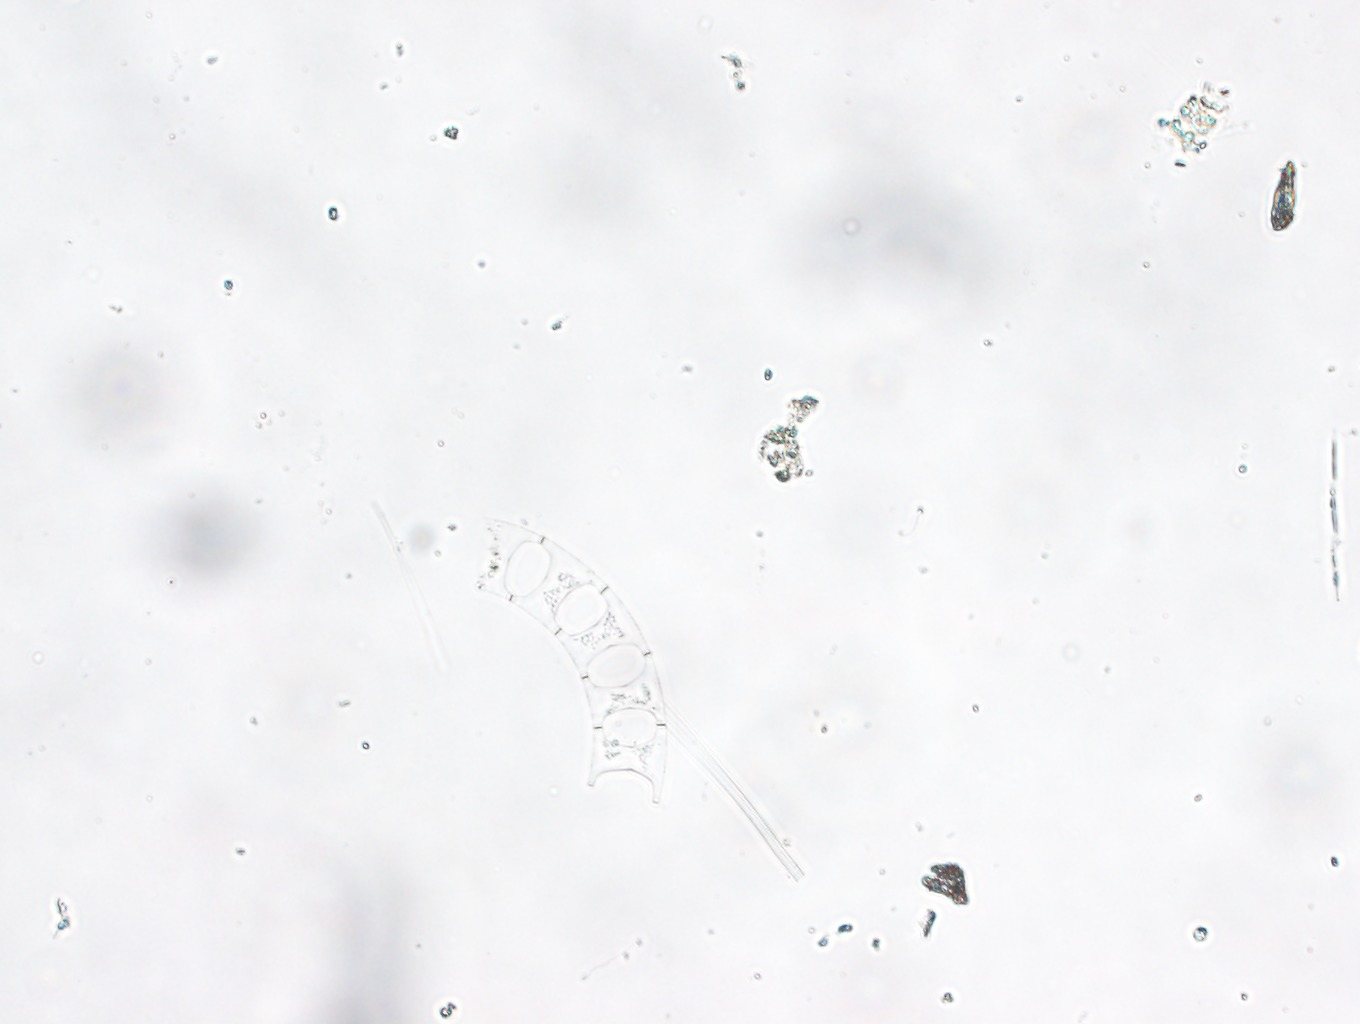eucampia: (478, 515, 668, 806)
